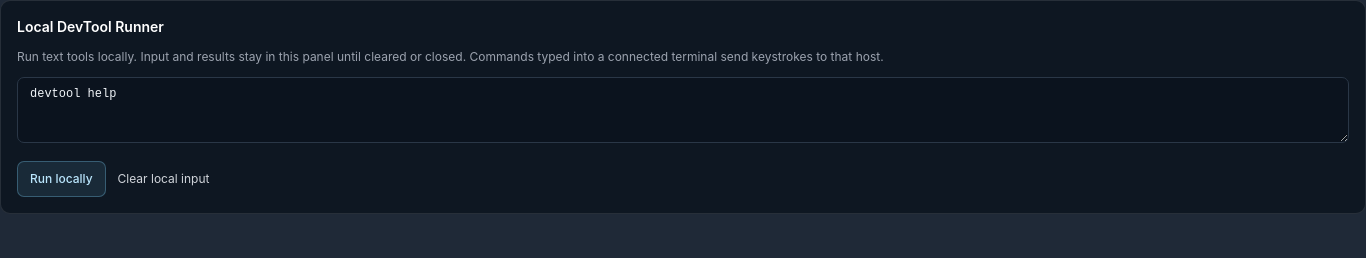
Test: local DevTool execution › processes text without a network request or persistent input/output
Replace the text in the text box named "Local DevTool command" with "devtool base64:encode \"local-private-input\"" at (683, 110), box [17,77,1349,143]
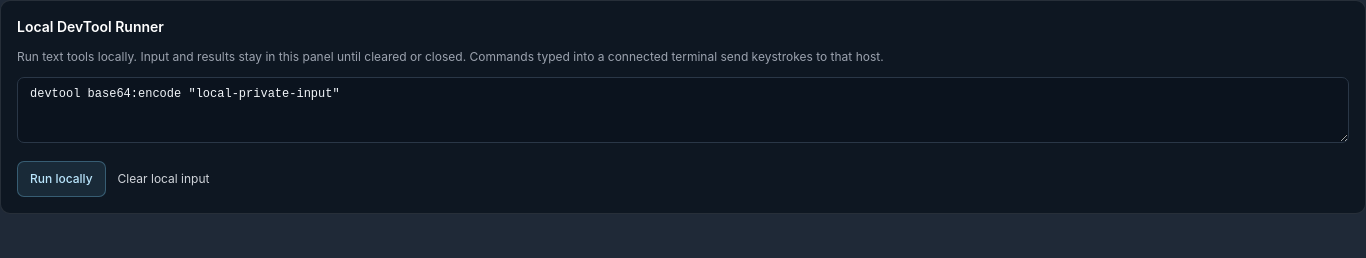
Click the button "Run locally" at (61, 179), box [17,161,106,197]
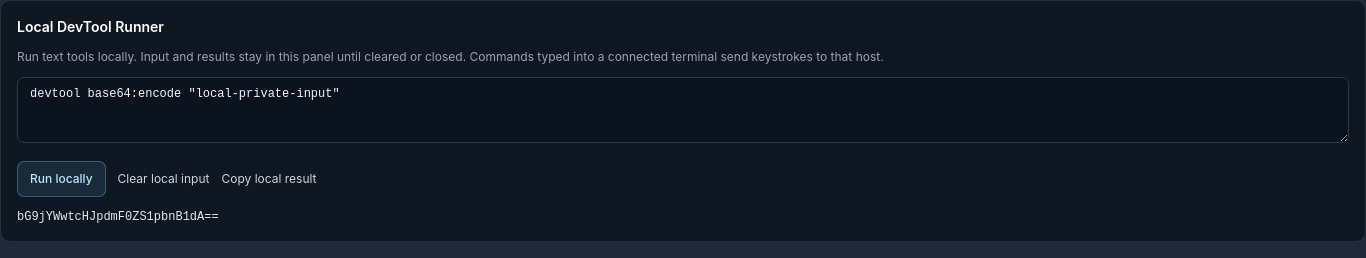
Click the button "Clear local input" at (164, 179), box [118,161,210,197]
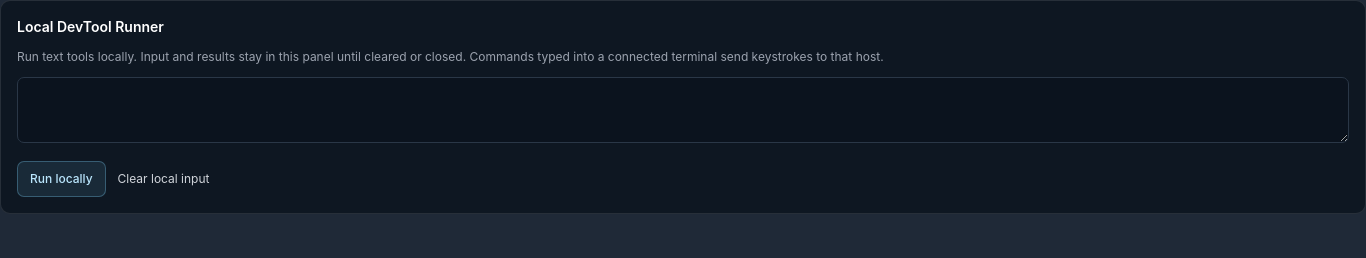
Expected: the text box named "Local DevTool command" is empty, [17,77,1349,143]
